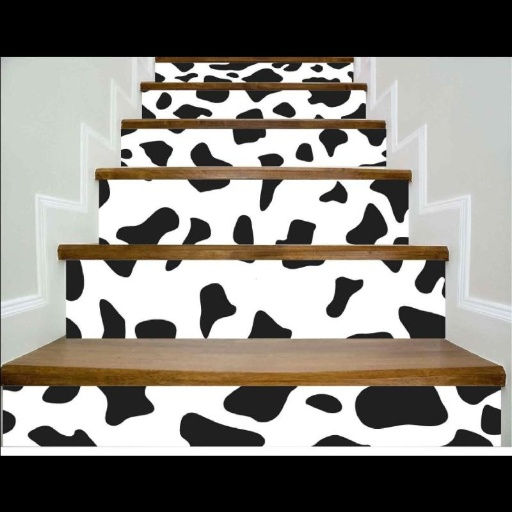Stairs: (0, 64, 512, 453)
